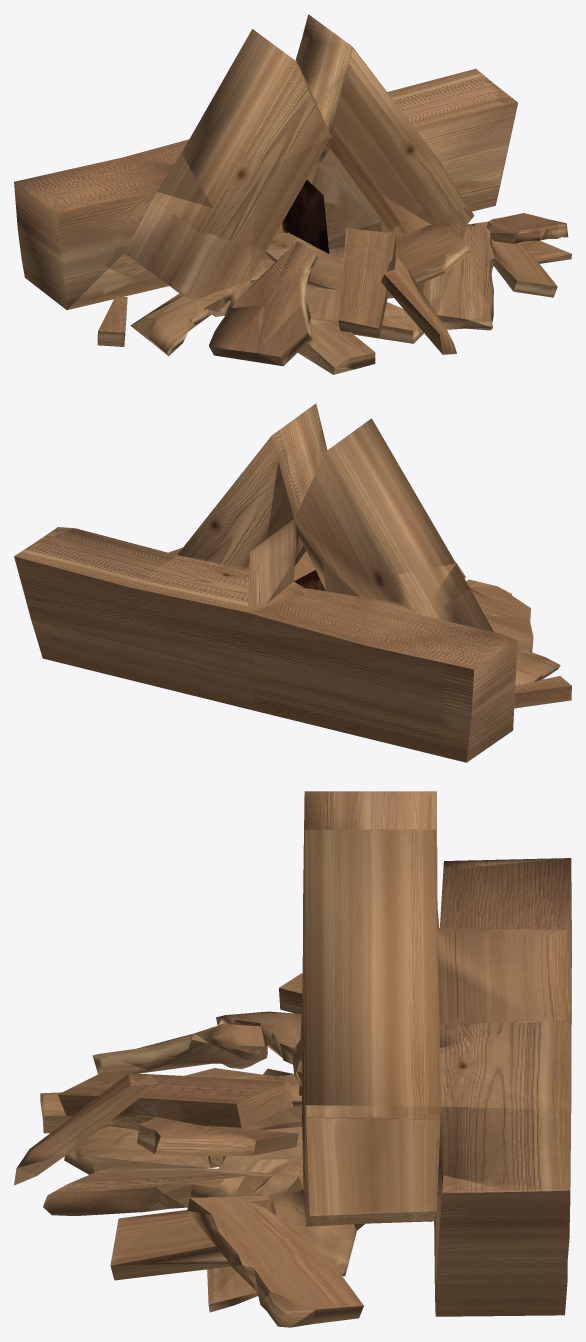
File: IT_HeavyDebris_BrokenPlankBundle.fbx
The picture shows the model from 3 angles, top to bottom: view 1: azimuth 30°, elevation 25°; view 2: azimuth 150°, elevation 25°; view 3: azimuth 270°, elevation 25°; orthographic projection. The views are drawn at different scales.
Parts seen in each view (by area): view 1: Mesh_0; view 2: Mesh_0; view 3: Mesh_0.
Part boxes in pixels (<box>): Mesh_0: <box>14,14,571,374</box>; Mesh_0: <box>14,403,571,762</box>; Mesh_0: <box>14,791,571,1327</box>.
Size of the model in its own units: 190 by 91.86 by 132.
Materials: 1 (1 with a texture image).
